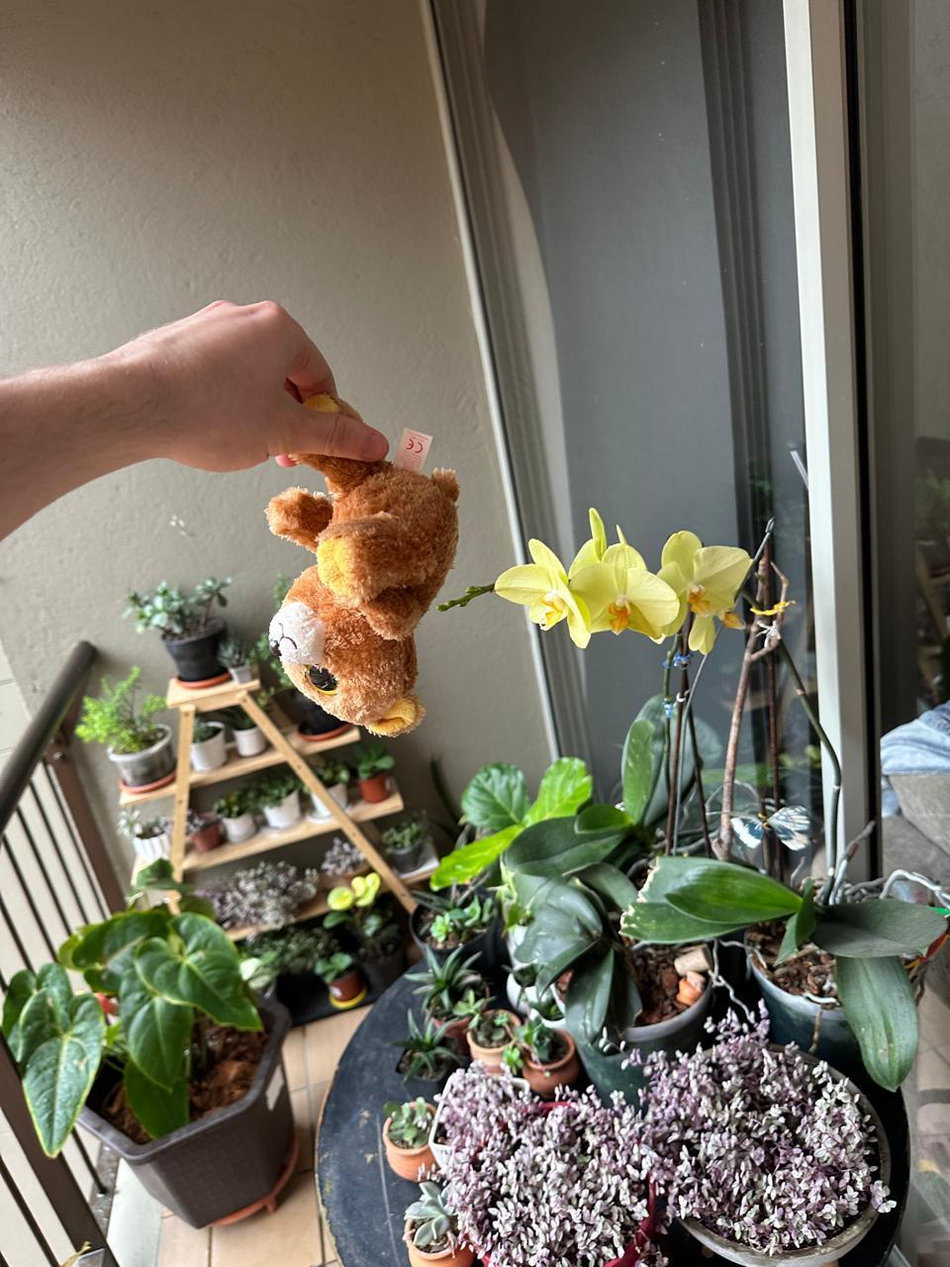peluche_sebastian: (262, 401, 468, 737)
